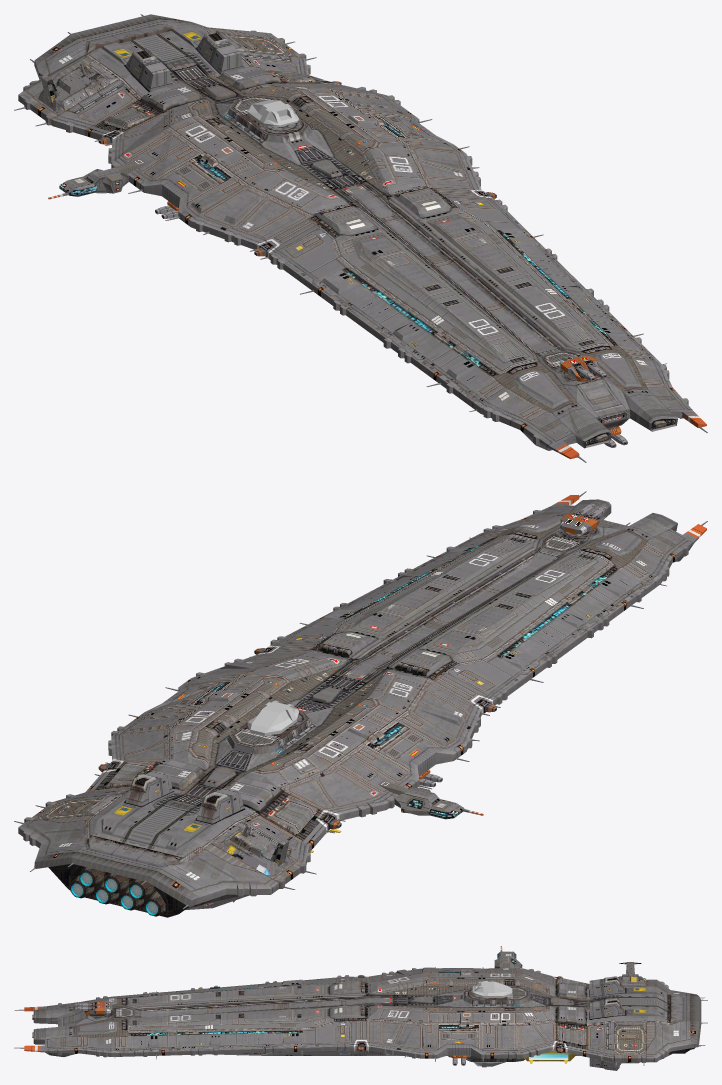
Rendered from hgn_battlecruiser.obj.
The picture shows the model from 3 angles, top to bottom: view 1: azimuth 30°, elevation 25°; view 2: azimuth 150°, elevation 25°; view 3: azimuth 270°, elevation 25°; orthographic projection. The views are drawn at different scales.
Size of the model in its own units: 378 by 122 by 961.
